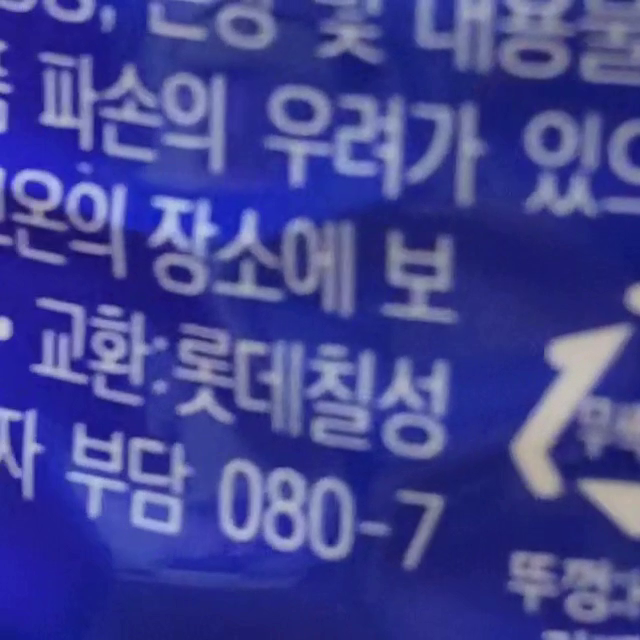ColorlessPet: (509, 284, 638, 541)
